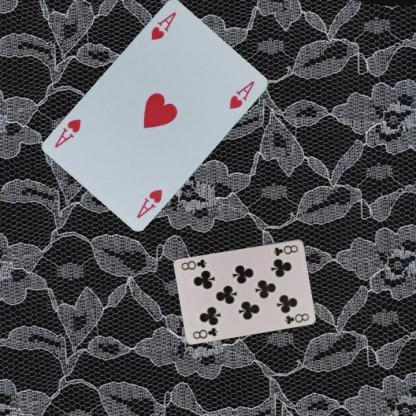8c: (190, 324, 219, 340), (270, 242, 300, 257)
Ah: (134, 186, 164, 220), (148, 9, 178, 42)
